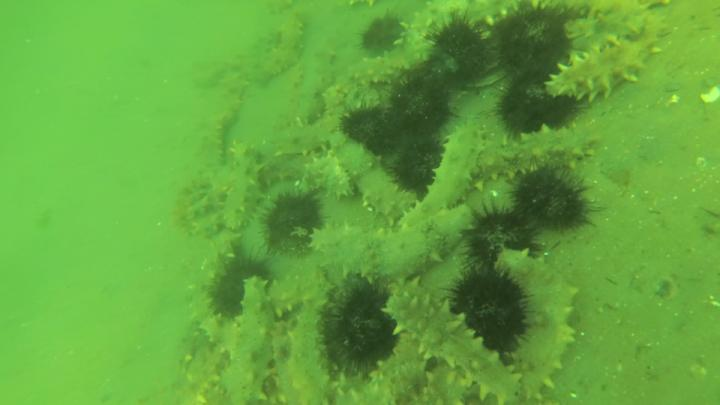echinus: (328, 280, 400, 369), (450, 269, 527, 348), (516, 168, 596, 235), (497, 73, 581, 136), (497, 9, 571, 79), (466, 206, 537, 275), (208, 256, 274, 322), (262, 193, 325, 259), (390, 79, 453, 138), (436, 18, 491, 85), (338, 104, 399, 161), (393, 138, 449, 194), (357, 13, 408, 55)
holothurian: (382, 276, 523, 405), (494, 247, 578, 400), (397, 120, 488, 231), (362, 205, 479, 283), (474, 119, 603, 188), (545, 38, 653, 107), (224, 275, 281, 405), (345, 10, 438, 88), (326, 132, 408, 219), (263, 88, 341, 160), (354, 333, 431, 405), (286, 298, 335, 405), (193, 240, 238, 346), (251, 15, 308, 83), (567, 7, 647, 54), (222, 141, 262, 231), (295, 46, 339, 126), (313, 222, 379, 274), (266, 273, 330, 319), (409, 365, 479, 405), (297, 154, 355, 201), (210, 96, 245, 172)
